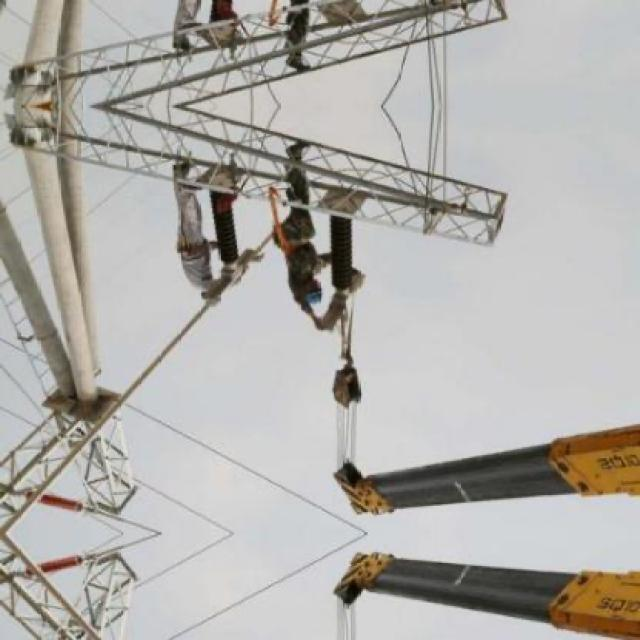con casco: (285, 267, 335, 317), (189, 282, 224, 310)
